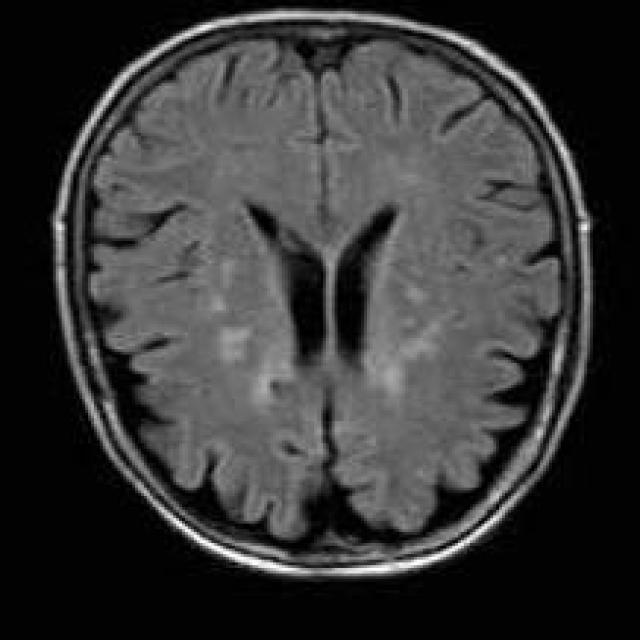No_Tumor: (54, 10, 592, 576)
